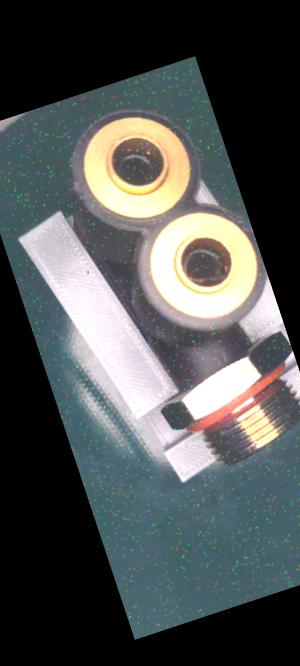off-centered: (175, 237, 234, 293)
white mark: (198, 345, 218, 364), (217, 348, 230, 366)
